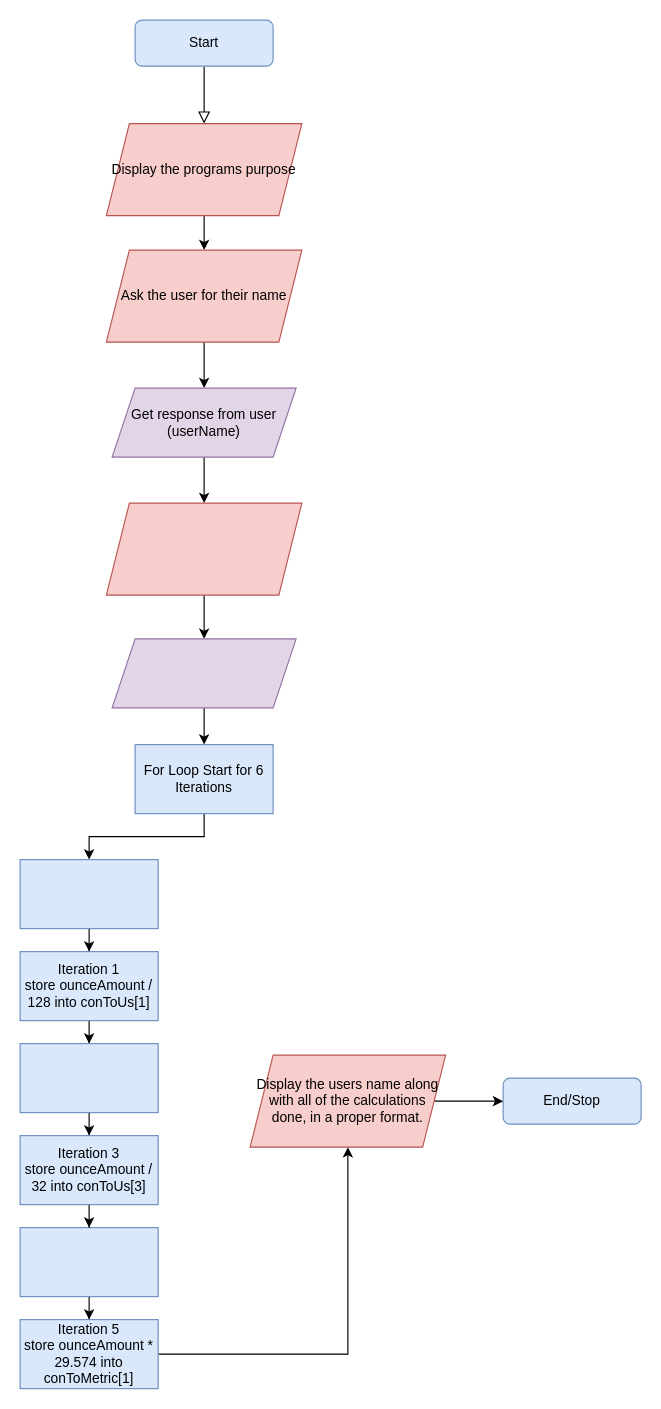
This 661x1409 diagram has some shape labels left out. Here are the shapes that lost their labels. From the top down, the box of each, then its label:
(105, 502, 302, 595): Ask the user for the amount of ounces
(111, 638, 296, 708): Get response from user (ounceAmount) store as float
(19, 858, 158, 929): Iteration 0 store ounceAmount / 8 into conToUs[0]
(19, 1042, 158, 1113): Iteration 2 store ounceAmount / 16 into conToUs[2]
(19, 1226, 158, 1297): Iteration 4 store ounceAmount / 33.814 into conToMetric[0]
